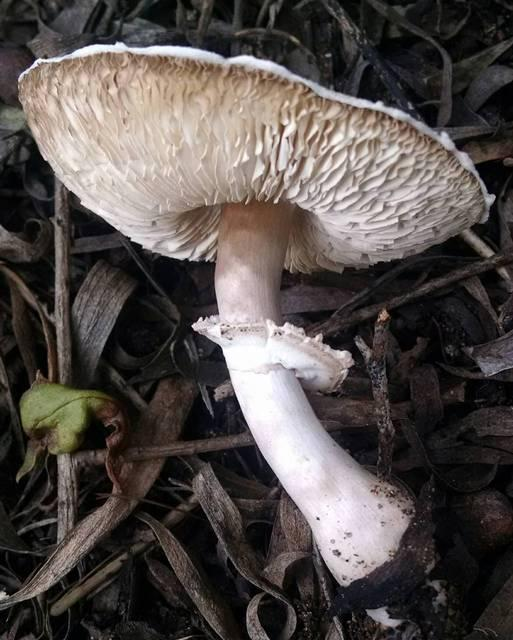poisonous_mushroom: (15, 40, 496, 609)
